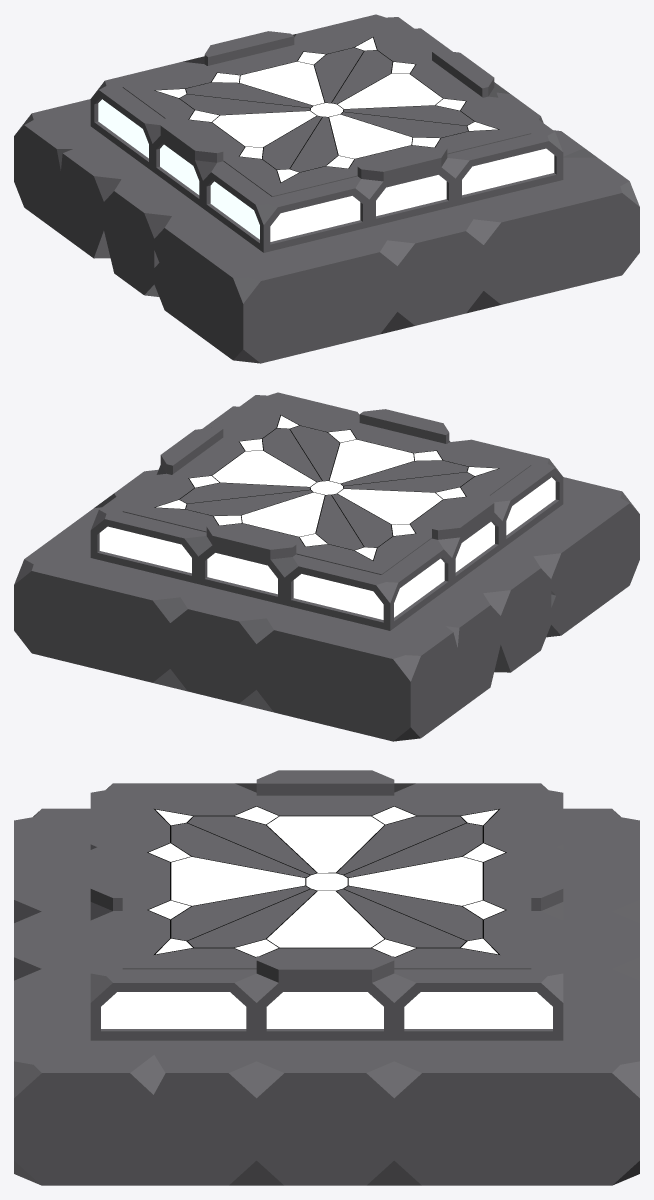
Rendered from Pressure Plate.fbx.
3 renders of one model, top to bottom at view 1: azimuth 30°, elevation 25°; view 2: azimuth 150°, elevation 25°; view 3: azimuth 270°, elevation 25°, orthographic. The views are drawn at different scales.
Parts seen in each view (by area): view 1: Cube, Cube.001; view 2: Cube, Cube.001; view 3: Cube, Cube.001.
Part boxes in pixels (x1=…): Cube: x1=14, y1=14, x2=639, y2=363; Cube.001: x1=122, y1=23, x2=531, y2=196; Cube: x1=14, y1=392, x2=639, y2=741; Cube.001: x1=122, y1=401, x2=531, y2=574; Cube: x1=14, y1=770, x2=639, y2=1185; Cube.001: x1=122, y1=795, x2=531, y2=969.
Size of the model in its own units: 92.16 by 29.82 by 92.21.
